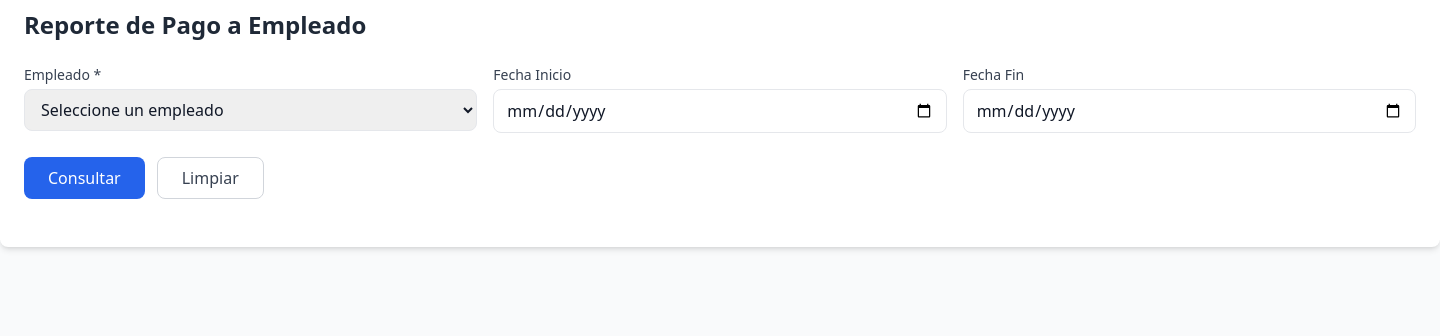
Test: PagoEmpleadoReport › muestra mensaje de error cuando falla la carga
Select "Juan Pérez" in the dropdown at (251, 110), box [24,89,477,131]
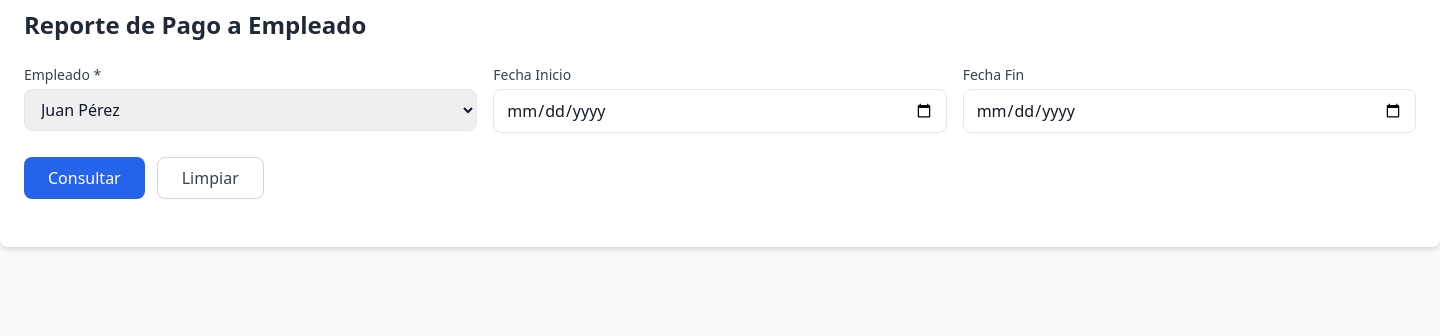
Click the button "Consultar" at (84, 178), box [24,157,145,199]
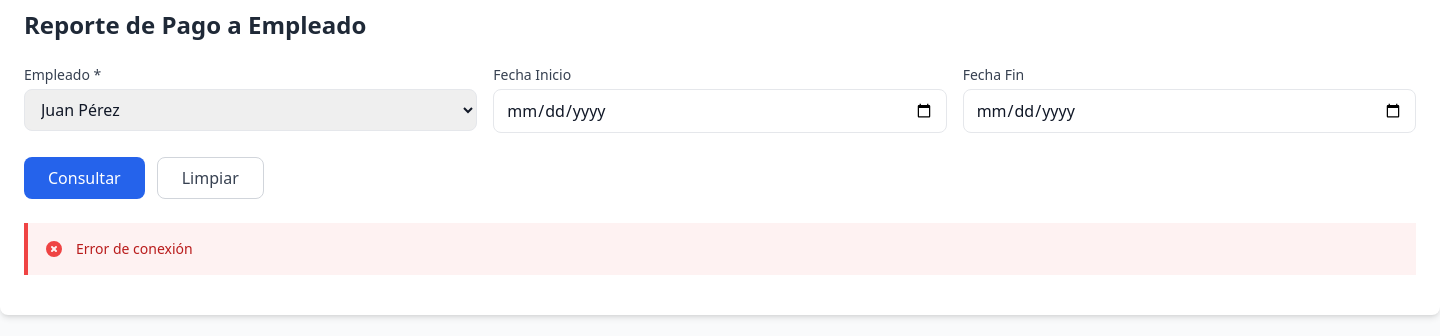
Now the text "Error" is shown, box [76,239,193,258]
